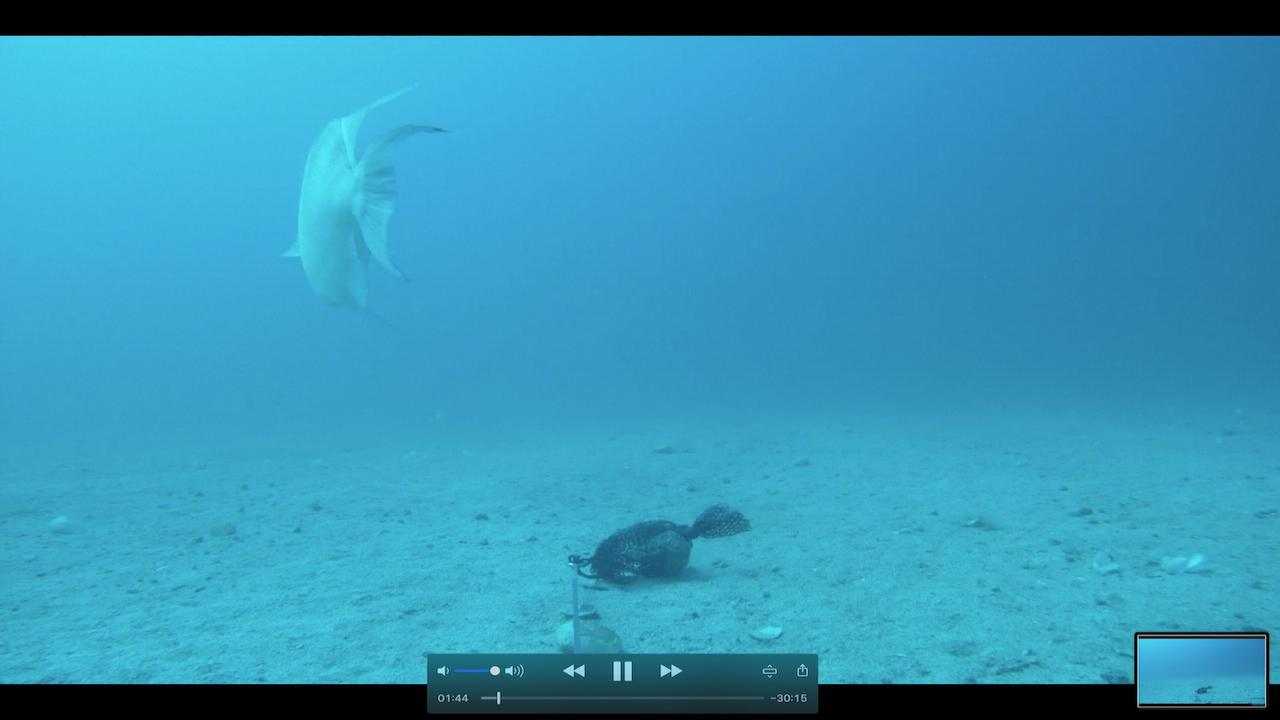balistes: (259, 75, 452, 331)
